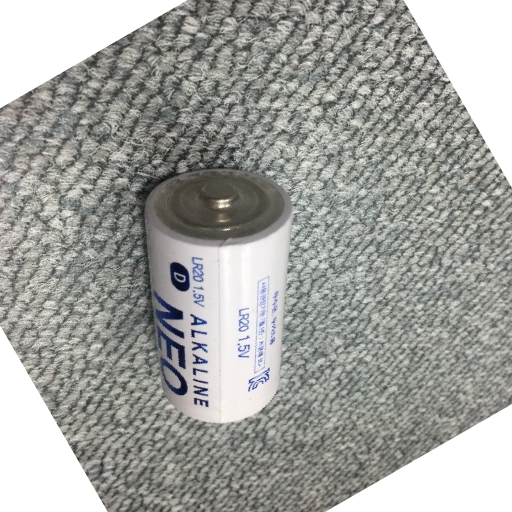Battery_0: (139, 156, 297, 431)
